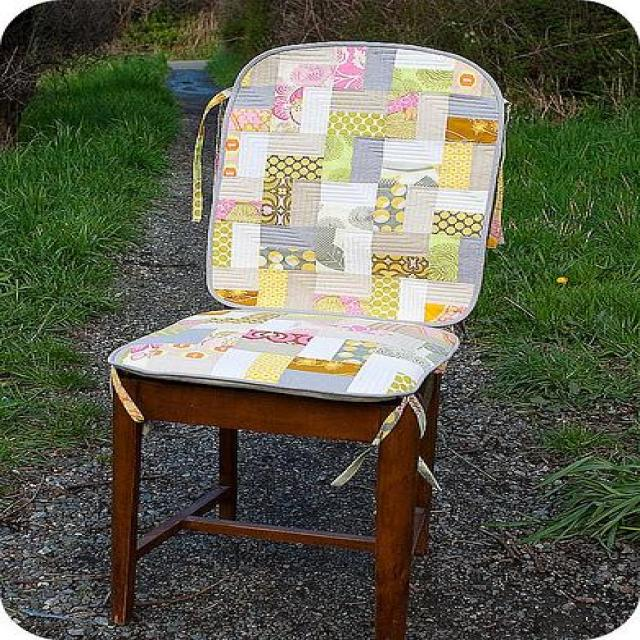chair: (106, 39, 511, 638)
